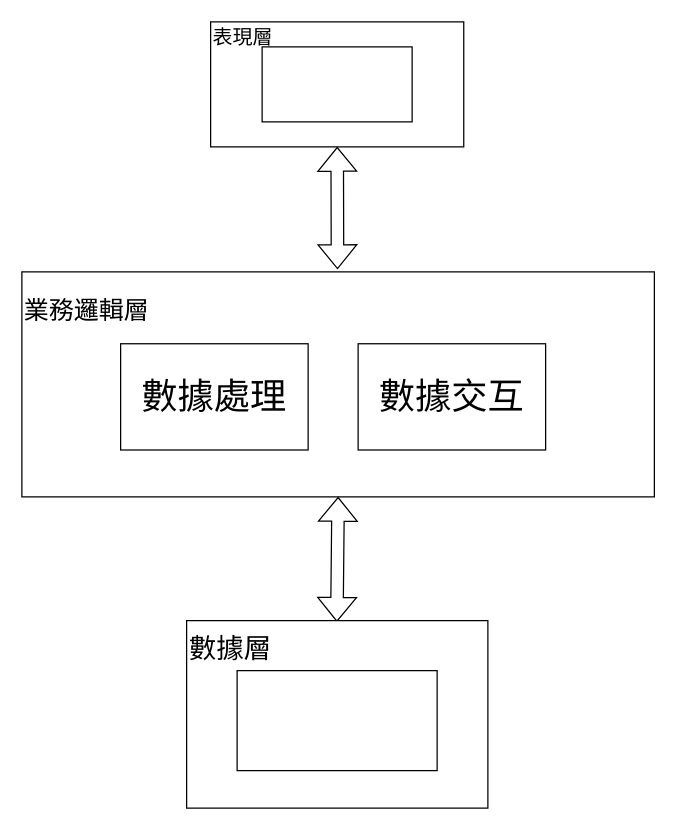
Image size: 676x830. Some labels were removed from this diagram. Each missing label, with the centre of its shape:
Mysql: pixel 336 720
客戶端: pixel 336 84
